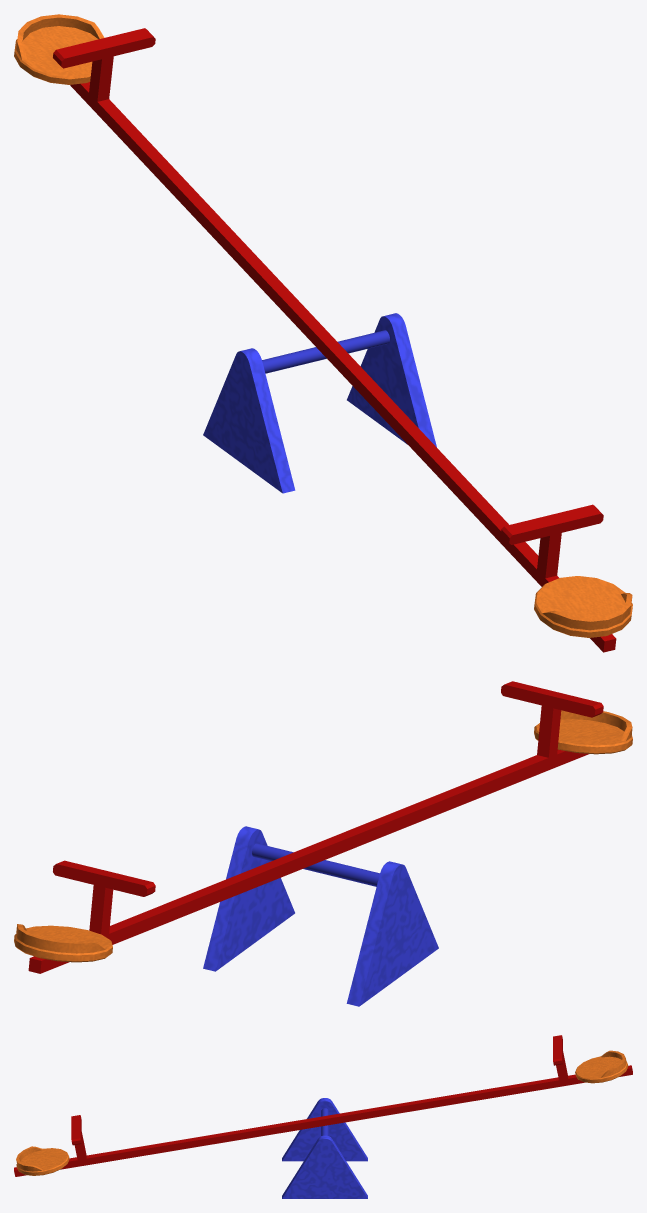
The model's file is Bapbenh2.fbx.
3 views of the same model, one above another, from view 1: azimuth 30°, elevation 25°; view 2: azimuth 150°, elevation 25°; view 3: azimuth 270°, elevation 25° (orthographic). The views are drawn at different scales.
Visible parts, largest first — view 1: Cube.007, Cube.002, Circle.001, Cylinder.006; view 2: Cube.007, Cube.002, Circle.001, Cylinder.006; view 3: Cube.007, Cube.002, Circle.001.
Part boxes in pixels (x1,y1,x2,y2): Cube.007: (53,28,616,652); Cube.002: (203,313,436,493); Circle.001: (14,14,632,637); Cylinder.006: (262,330,389,373); Cube.007: (28,681,603,973); Cube.002: (203,826,438,1006); Circle.001: (14,710,632,962); Cylinder.006: (252,843,379,886); Cube.007: (14,1035,632,1176); Cube.002: (282,1098,367,1198); Circle.001: (16,1050,628,1175).
Size of the model in its own units: 44.28 by 66.35 by 283.
Materials: 4 (4 with a texture image).
